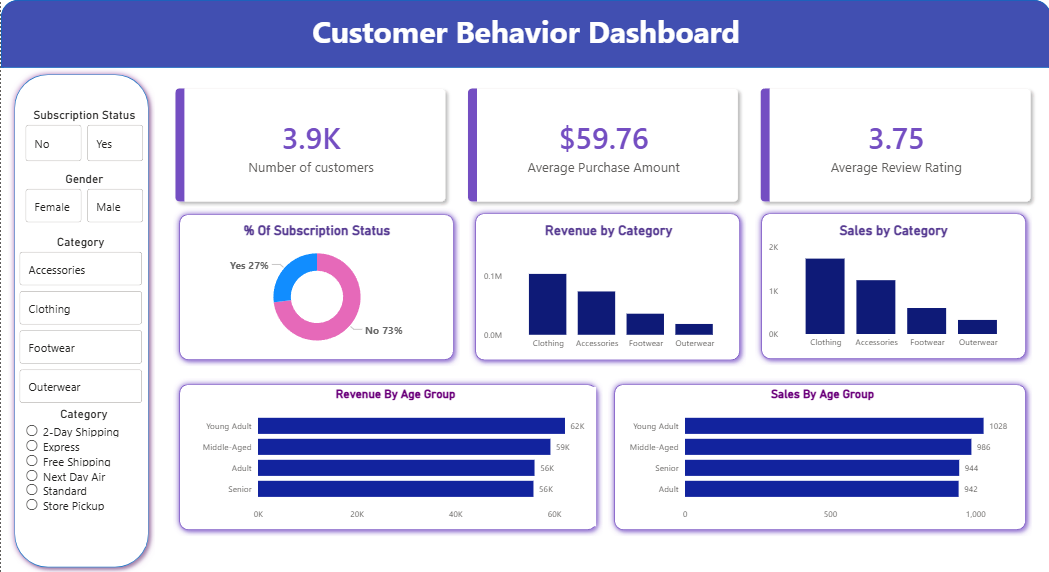

What the dashboard file says about the page in this screenshot:
{"tool":"powerbi","page":{"name":"Page 1","canvas":[1500,820],"ordinal":0},"visuals":[{"type":"cardVisual","fields":{"Data":["public customers.Number of customers","public customers.Average Purchase Amount","public customers.Average Review Rating"]},"box":[220,96.7,1280,220],"z":0},{"type":"shape","box":[245,540,614,226],"z":0,"group":"g1"},{"type":"shape","box":[0,0,1500,96.7],"z":1000},{"type":"shape","box":[867.1,540,605.9,226],"z":1000,"group":"g1"},{"type":"textbox","box":[0,10,1500,86.7],"z":2000},{"type":"shape","box":[245,297,410,226],"z":3000},{"type":"shape","box":[10,97.5,210,722.5],"z":4000},{"type":"donutChart","title":"% Of Subscription Status","fields":{"Category":["public customers.subscription_status"],"Y":["CountNonNull(public customers.customer_id)"]},"box":[261,317,380,192],"z":5000},{"type":"shape","box":[668,295,396,228],"z":6000},{"type":"advancedSlicerVisual","title":"Subscription Status","fields":{"Values":["public customers.subscription_status"]},"box":[30,154,178,81],"z":7000},{"type":"shape","box":[1077,295,396,226],"z":8000},{"type":"advancedSlicerVisual","title":"Gender","fields":{"Values":["public customers.gender"]},"box":[30,246,178,77],"z":9000},{"type":"clusteredColumnChart","title":"Revenue by Category","fields":{"Category":["public customers.category"],"Y":["Sum(public customers.purchase_amount)"]},"box":[684.1,316.6,367.8,191.1],"z":10000},{"type":"advancedSlicerVisual","title":"Category","fields":{"Values":["public customers.category"]},"box":[22,336,185,246],"z":11000},{"type":"clusteredColumnChart","title":"Sales by Category","fields":{"Category":["public customers.category"],"Y":["CountNonNull(public customers.customer_id)"]},"box":[1090.8,316.6,367.8,190],"z":12000},{"type":"listSlicer","title":"Category","fields":{"Values":["public customers.shipping_type"]},"box":[30,582,177,199],"z":13000},{"type":"clusteredBarChart","title":"Revenue By Age Group","fields":{"Y":["Sum(public customers.purchase_amount)"],"Category":["public customers.age_group"]},"box":[277,553,573,199],"z":14000},{"type":"group","id":"g1","title":"Group 1","box":[245,540,1228,226],"z":15000},{"type":"clusteredBarChart","title":"Revenue By Age Group","fields":{"Y":["Sum(public customers.purchase_amount)"],"Category":["public customers.age_group"]},"box":[277,553,573,199],"z":16000},{"type":"clusteredBarChart","title":"Sales By Age Group","fields":{"Category":["public customers.age_group"],"Y":["CountNonNull(public customers.customer_id)"]},"box":[887,553,573,199],"z":16001}]}

Visuals, with their boxes in screenshot pixels (x1, y1, x2, y2), scaled from the page's 1500x820 canvas onto the 1049x572 screenshot:
cardVisual - public customers.Number of customers x public customers.Average Purchase Amount: 154, 67, 1048, 221
shape: 171, 377, 601, 534
shape: 0, 0, 1048, 67
shape: 606, 377, 1030, 534
textbox: 0, 7, 1048, 67
shape: 171, 207, 458, 365
shape: 7, 68, 154, 571
"% Of Subscription Status" donutChart: 183, 221, 448, 355
shape: 467, 206, 744, 365
"Subscription Status" advancedSlicerVisual: 21, 107, 145, 164
shape: 753, 206, 1030, 363
"Gender" advancedSlicerVisual: 21, 172, 145, 225
"Revenue by Category" clusteredColumnChart: 478, 221, 736, 354
"Category" advancedSlicerVisual: 15, 234, 145, 406
"Sales by Category" clusteredColumnChart: 763, 221, 1020, 353
"Category" listSlicer: 21, 406, 145, 545
"Revenue By Age Group" clusteredBarChart: 194, 386, 594, 525
"Group 1" group: 171, 377, 1030, 534
"Revenue By Age Group" clusteredBarChart: 194, 386, 594, 525
"Sales By Age Group" clusteredBarChart: 620, 386, 1021, 525
